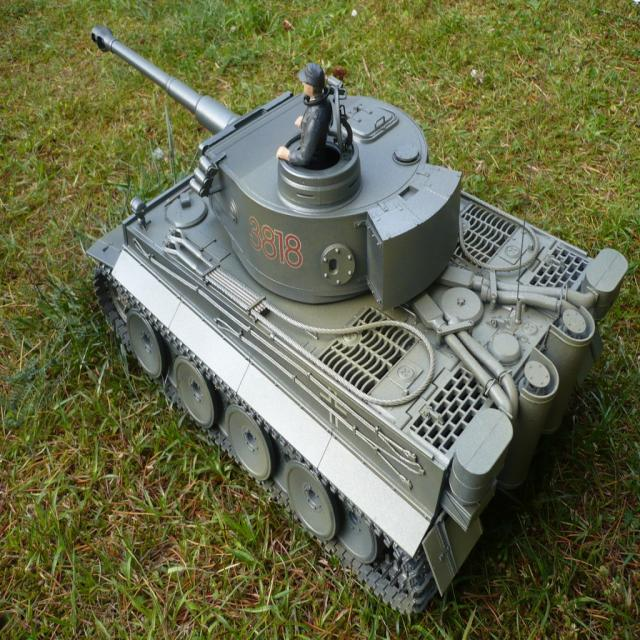tank: (83, 21, 628, 617)
